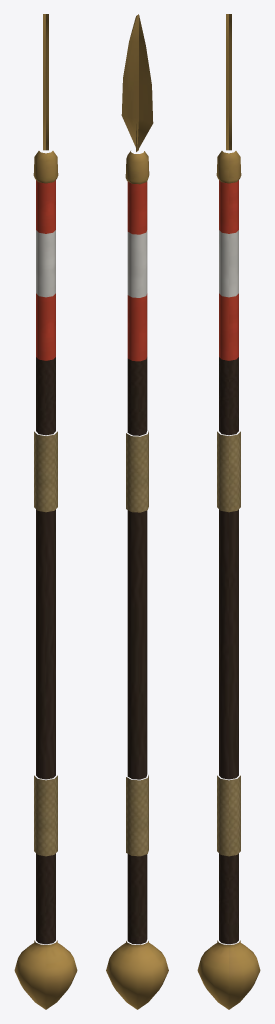
The model's file is lance-shepherd-v0.glb.
3 views of the same model, side by side, from view 1: azimuth 90°, elevation 25°; view 2: azimuth 150°, elevation 25°; view 3: azimuth 270°, elevation 25° (orthographic).
Parts seen in each view (by area): view 1: lance-shepherd-v0; view 2: lance-shepherd-v0; view 3: lance-shepherd-v0.
Part boxes in pixels (left/top/right/bottom): lance-shepherd-v0: left=14, top=14, right=77, bottom=1009; lance-shepherd-v0: left=106, top=14, right=168, bottom=1009; lance-shepherd-v0: left=197, top=14, right=260, bottom=1009.
Size of the model in its own units: 0.0901 by 1.57 by 0.0901.
1 material, 1 textured.
